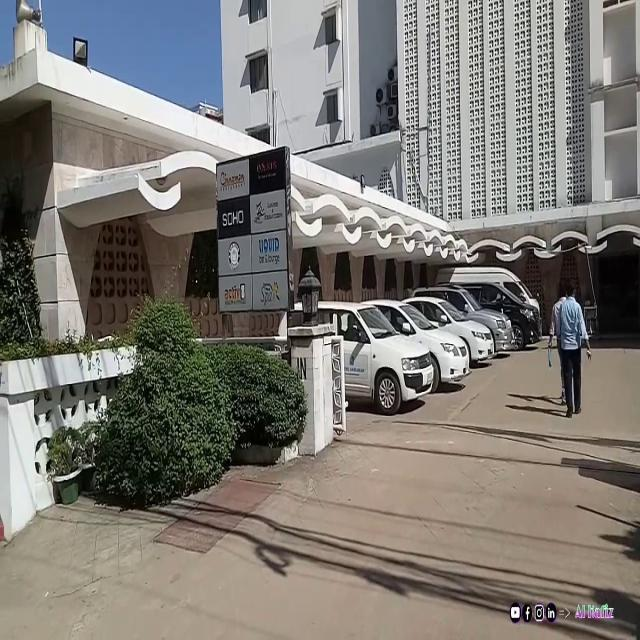white: (302, 301, 430, 409), (368, 284, 469, 385)
